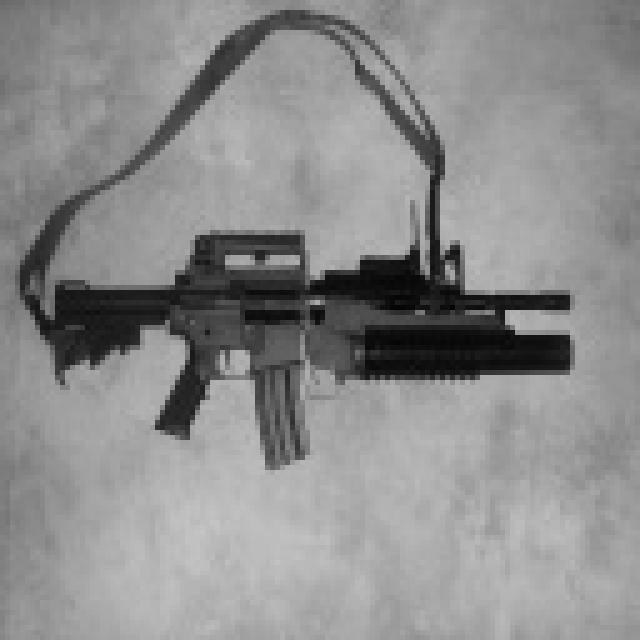Rifle: (0, 0, 595, 480)
